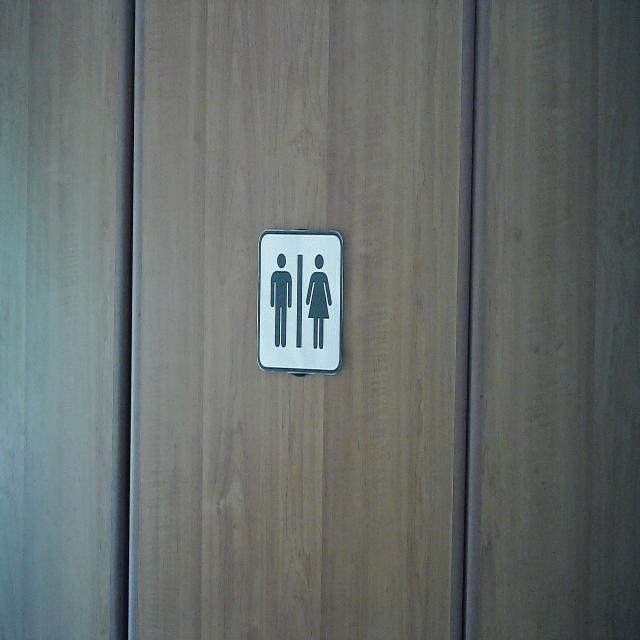restroom: (255, 224, 346, 378)
